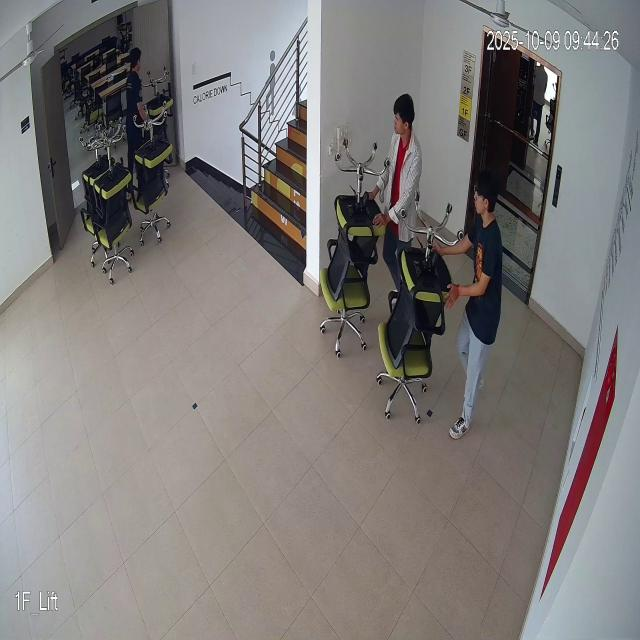face: (471, 166, 498, 228)
